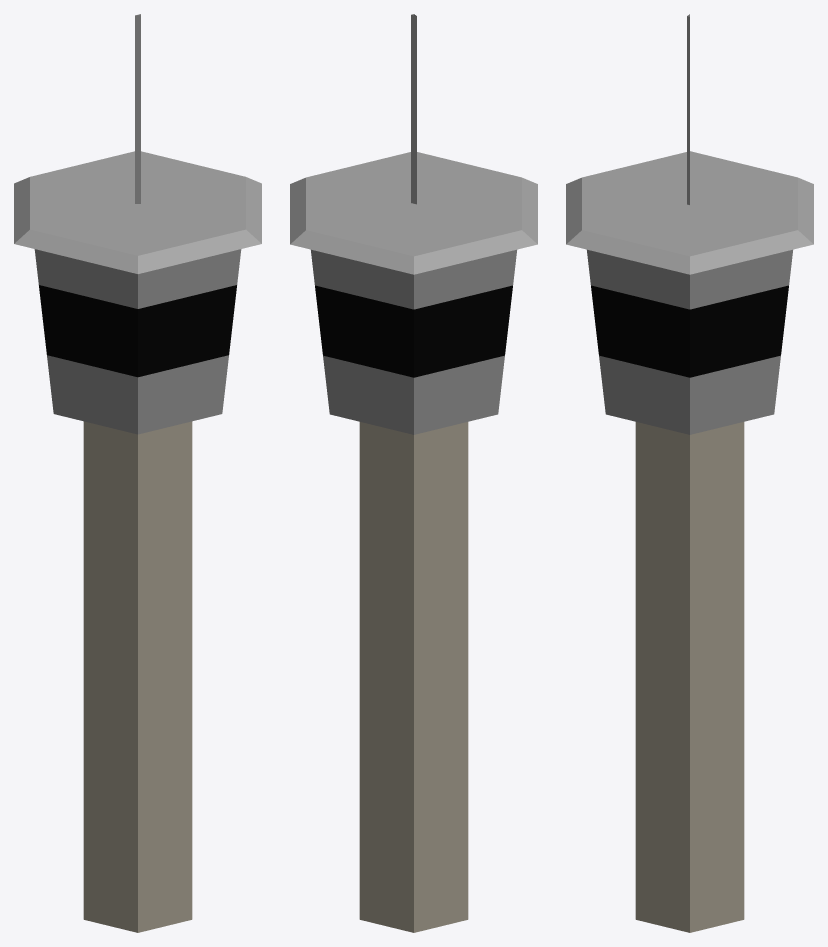
Rendered from RadioTowerA.fbx.
The picture shows the model from 3 angles, left to right: view 1: azimuth 30°, elevation 25°; view 2: azimuth 150°, elevation 25°; view 3: azimuth 270°, elevation 25°; orthographic projection.
Parts seen in each view (by area): view 1: RadioTowerA; view 2: RadioTowerA; view 3: RadioTowerA.
Boxes of the visible parts, <box> form: RadioTowerA: <box>14,14,261,932</box>; RadioTowerA: <box>290,14,537,932</box>; RadioTowerA: <box>566,14,813,932</box>.
Size of the model in its own units: 633 by 2175 by 548.
Materials: 1 (1 with a texture image).
